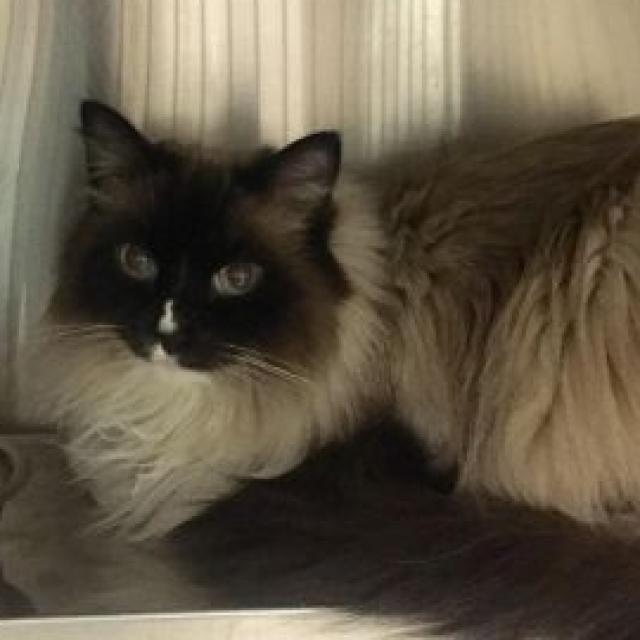Birman: (31, 92, 640, 640)
